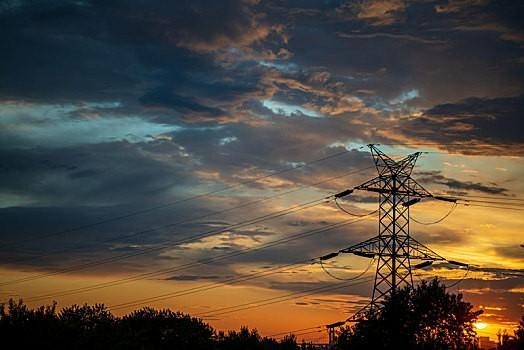power_tower: (336, 139, 459, 324)
